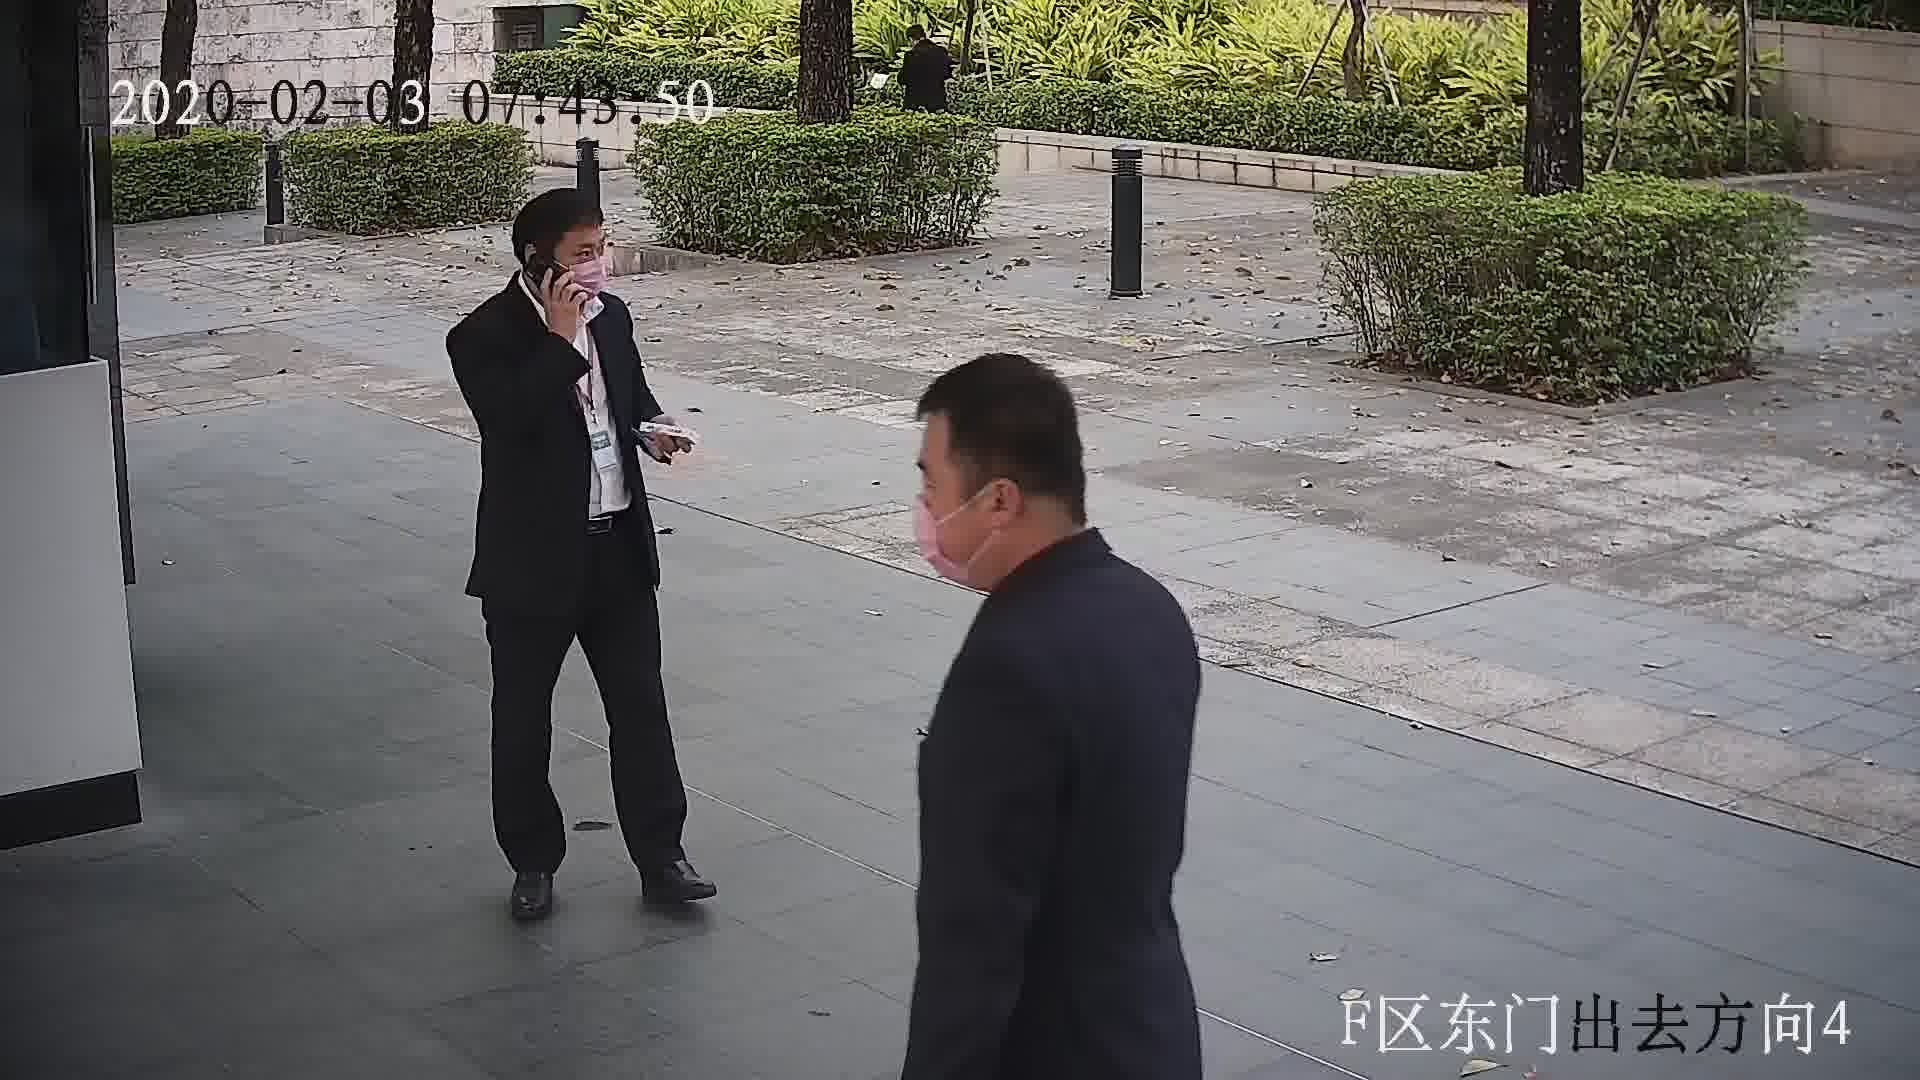face: (901, 400, 1035, 589), (546, 222, 608, 310)
mask: (908, 489, 977, 583), (566, 258, 613, 310)
person: (904, 352, 1201, 708), (445, 189, 633, 367), (895, 24, 957, 62)
